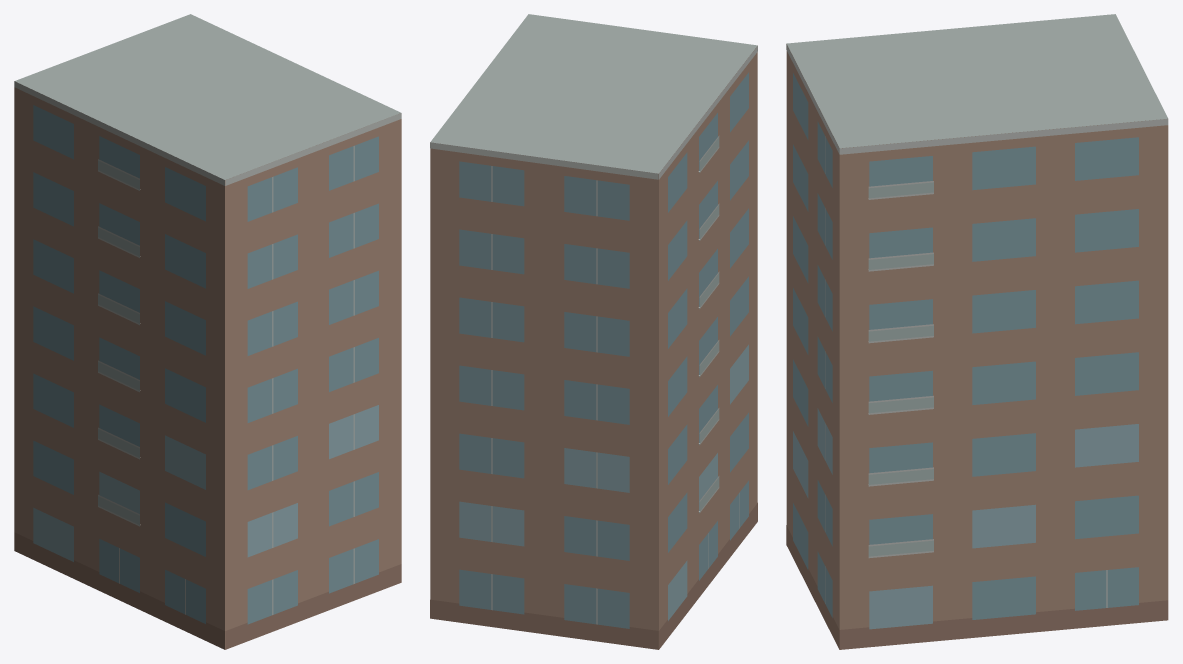
Rendered from survey-upis-32699303.glb.
The picture shows the model from 3 angles, left to right: view 1: azimuth 30°, elevation 25°; view 2: azimuth 150°, elevation 25°; view 3: azimuth 270°, elevation 25°; orthographic projection. The views are drawn at different scales.
Parts seen in each view (by area): view 1: survey-upis-32699303.tmp; view 2: survey-upis-32699303.tmp; view 3: survey-upis-32699303.tmp.
Part boxes in pixels (x1,y1,x2,y2): survey-upis-32699303.tmp: (14,14,401,649); survey-upis-32699303.tmp: (430,14,757,649); survey-upis-32699303.tmp: (786,14,1168,649).
Size of the model in its own units: 10.92 by 19 by 13.12.
